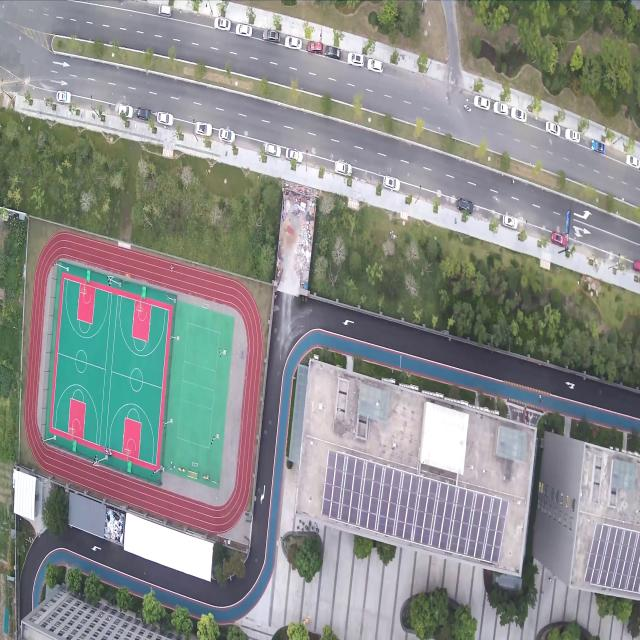drone: (235, 350, 239, 358)
